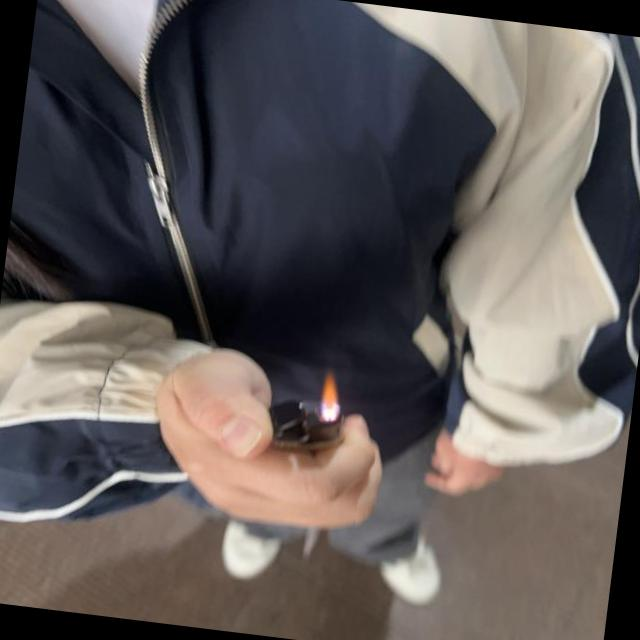Fire: (318, 367, 348, 420)
